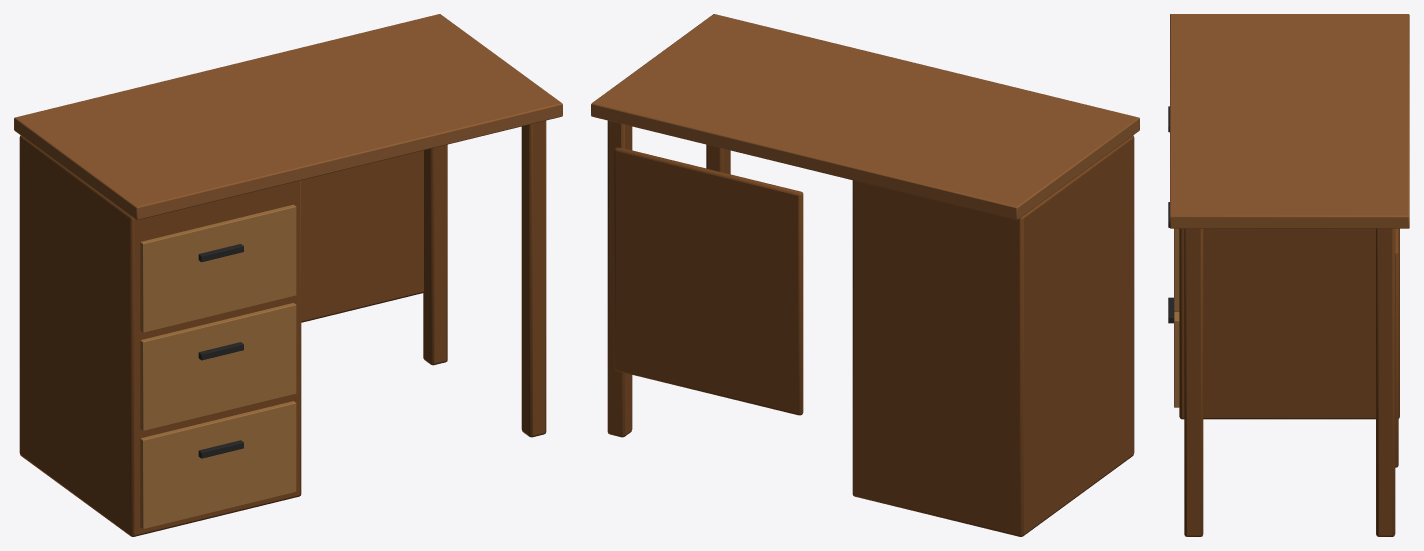
The model's file is BanCoHoc_Go.glb.
3 renders of one model, left to right at view 1: azimuth 30°, elevation 25°; view 2: azimuth 150°, elevation 25°; view 3: azimuth 270°, elevation 25°, orthographic. The views are drawn at different scales.
Parts seen in each view (by area): view 1: BanCoHoc_Go; view 2: BanCoHoc_Go; view 3: BanCoHoc_Go.
Part boxes in pixels (x1,y1,x2,y2): BanCoHoc_Go: (14, 14, 562, 536); BanCoHoc_Go: (591, 14, 1139, 536); BanCoHoc_Go: (1168, 14, 1409, 536).
Bounding box in the file's own units: 1 × 0.75 × 0.503.
